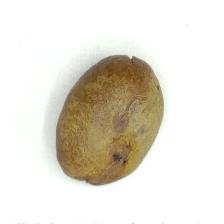NG: (102, 140, 136, 175)
